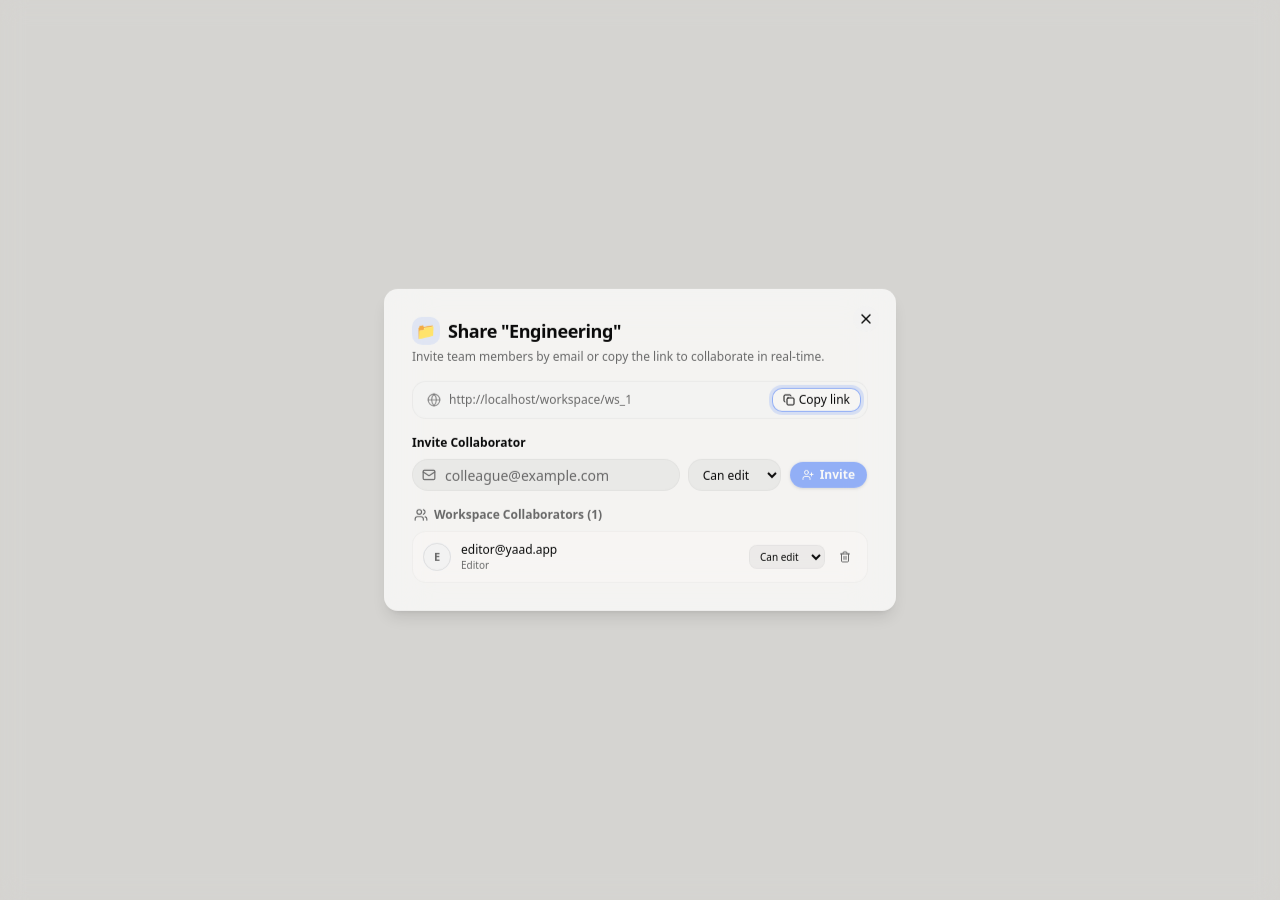
it: ShareModal › allows removing a non-owner member
Expected: the text "editor@yaad.app" is shown, [461, 542, 557, 558]
Click the button named "remove editor@yaad.app".
click(845, 557)  # box [833, 545, 857, 569]
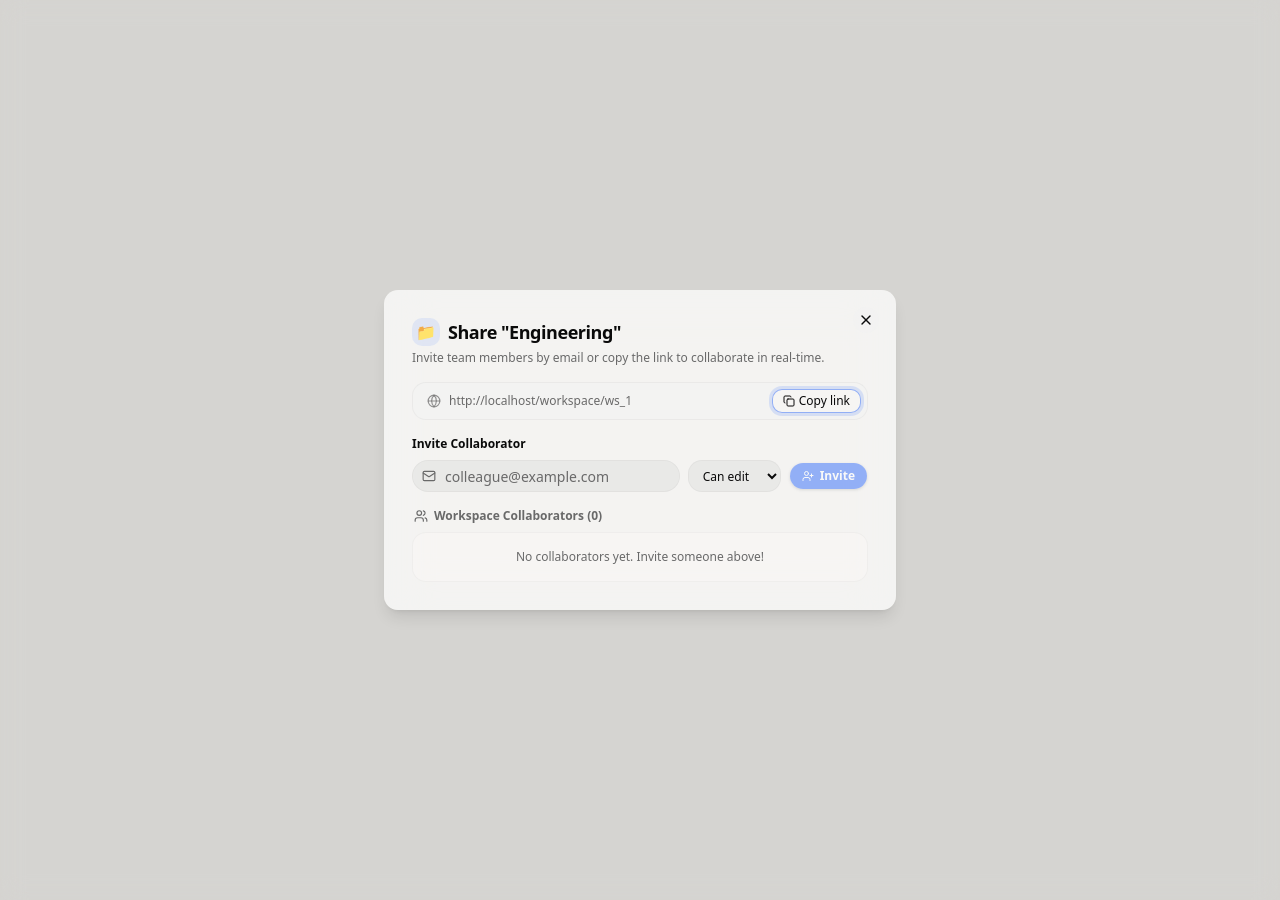
Expected: the text "editor@yaad.app" is gone
